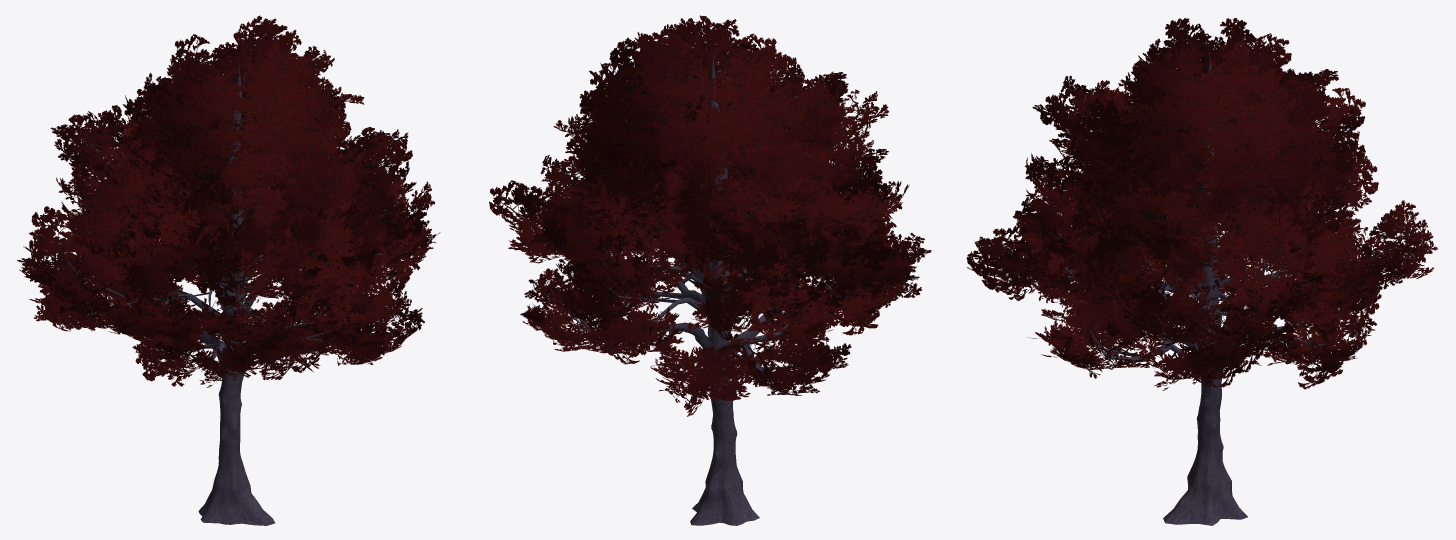
The picture shows the model from 3 angles, left to right: view 1: azimuth 30°, elevation 25°; view 2: azimuth 150°, elevation 25°; view 3: azimuth 270°, elevation 25°; orthographic projection. The views are drawn at different scales.
Parts seen in each view (by area): view 1: SM_GF_Oak_Tree_01_LOD0; view 2: SM_GF_Oak_Tree_01_LOD0; view 3: SM_GF_Oak_Tree_01_LOD0.
Part boxes in pixels (x1,y1,x2,y2): SM_GF_Oak_Tree_01_LOD0: (17,15,440,525); SM_GF_Oak_Tree_01_LOD0: (489,15,931,525); SM_GF_Oak_Tree_01_LOD0: (966,18,1437,525).
Size of the model in its own units: 18.67 by 20.2 by 17.95.
2 materials, 2 textured.
